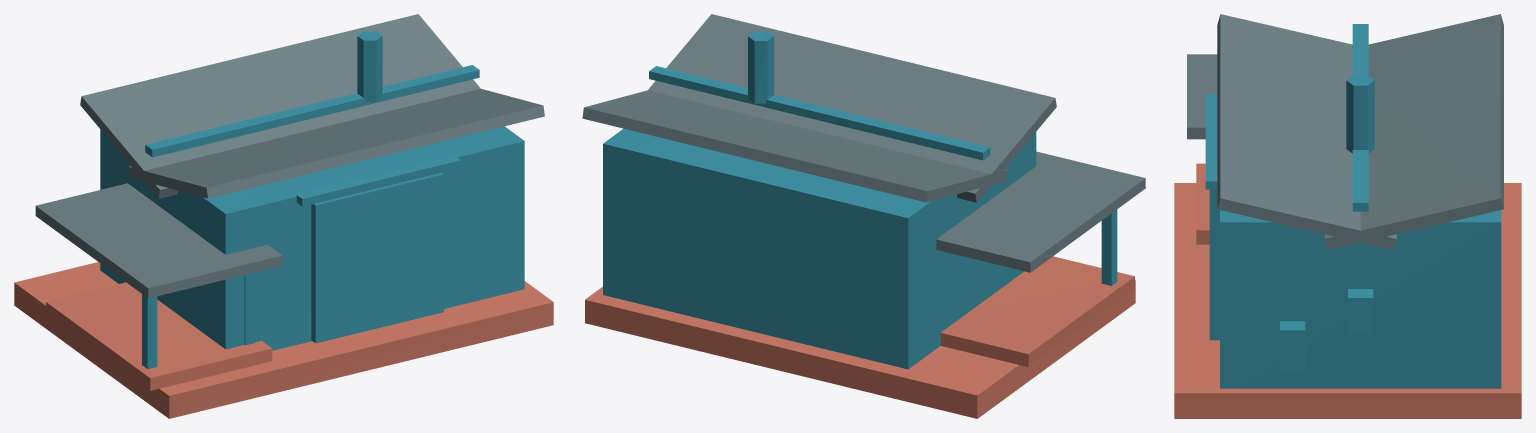
Rendered from veterinary-shed.source.glb.
3 renders of one model, left to right at view 1: azimuth 30°, elevation 25°; view 2: azimuth 150°, elevation 25°; view 3: azimuth 270°, elevation 25°, orthographic. The views are drawn at different scales.
Parts seen in each view (by area): view 1: veterinary-shed-shallow-galvanized-treatment-roof-mesh (×2), veterinary-shed-compact-washable-treatment-building-mesh, veterinary-shed-low-stone-washable-curb-mesh, veterinary-shed-broad-washable-service-door-panel-mesh, veterinary-shed-holding-approach-canopy-mesh, veterinary-shed-covered-holding-approach-mesh, veterinary-shed-ventilation-ridge-mesh, veterinary-shed-service-door-track-mesh, veterinary-shed-holding-approach-post-mesh (×2), veterinary-shed-narrow-ventilation-stack-mesh; view 2: veterinary-shed-compact-washable-treatment-building-mesh, veterinary-shed-shallow-galvanized-treatment-roof-mesh (×2), veterinary-shed-low-stone-washable-curb-mesh, veterinary-shed-holding-approach-canopy-mesh, veterinary-shed-covered-holding-approach-mesh, veterinary-shed-ventilation-ridge-mesh, veterinary-shed-narrow-ventilation-stack-mesh, veterinary-shed-holding-approach-post-mesh; view 3: veterinary-shed-shallow-galvanized-treatment-roof-mesh (×2), veterinary-shed-compact-washable-treatment-building-mesh, veterinary-shed-low-stone-washable-curb-mesh, veterinary-shed-narrow-ventilation-stack-mesh, veterinary-shed-holding-approach-canopy-mesh, veterinary-shed-ventilation-ridge-mesh, veterinary-shed-broad-washable-service-door-panel-mesh, veterinary-shed-water-service-box-mesh, veterinary-shed-service-door-track-mesh, veterinary-shed-power-service-box-mesh, veterinary-shed-covered-holding-approach-mesh.
Part boxes in pixels (x1,y1,x2,y2): veterinary-shed-shallow-galvanized-treatment-roof-mesh (×2): (80,14,544,198); veterinary-shed-compact-washable-treatment-building-mesh: (100,126,524,350); veterinary-shed-low-stone-washable-curb-mesh: (14,262,553,418); veterinary-shed-broad-washable-service-door-panel-mesh: (311,172,443,343); veterinary-shed-holding-approach-canopy-mesh: (35,183,282,298); veterinary-shed-covered-holding-approach-mesh: (46,282,272,390); veterinary-shed-ventilation-ridge-mesh: (145,65,479,157); veterinary-shed-service-door-track-mesh: (296,156,460,206); veterinary-shed-holding-approach-post-mesh (×2): (142,272,254,368); veterinary-shed-narrow-ventilation-stack-mesh: (357,31,382,101); veterinary-shed-compact-washable-treatment-building-mesh: (603,128,1036,369); veterinary-shed-shallow-galvanized-treatment-roof-mesh (×2): (582,14,1056,202); veterinary-shed-low-stone-washable-curb-mesh: (585,279,1135,418); veterinary-shed-holding-approach-canopy-mesh: (936,151,1145,272); veterinary-shed-covered-holding-approach-mesh: (940,256,1134,367); veterinary-shed-ventilation-ridge-mesh: (649,66,990,160); veterinary-shed-narrow-ventilation-stack-mesh: (748,31,773,103); veterinary-shed-holding-approach-post-mesh: (1101,209,1117,285); veterinary-shed-shallow-galvanized-treatment-roof-mesh (×2): (1217,14,1503,249); veterinary-shed-compact-washable-treatment-building-mesh: (1220,210,1501,388); veterinary-shed-low-stone-washable-curb-mesh: (1174,183,1521,418); veterinary-shed-narrow-ventilation-stack-mesh: (1346,75,1374,153); veterinary-shed-holding-approach-canopy-mesh: (1187,54,1217,139); veterinary-shed-ventilation-ridge-mesh: (1352,24,1368,211); veterinary-shed-broad-washable-service-door-panel-mesh: (1209,189,1219,340); veterinary-shed-water-service-box-mesh: (1280,321,1305,373); veterinary-shed-service-door-track-mesh: (1205,94,1217,189); veterinary-shed-power-service-box-mesh: (1348,289,1373,333); veterinary-shed-covered-holding-approach-mesh: (1196,163,1209,244).
Bounding box in the file's own units: 3.36 × 1.98 × 2.2.
